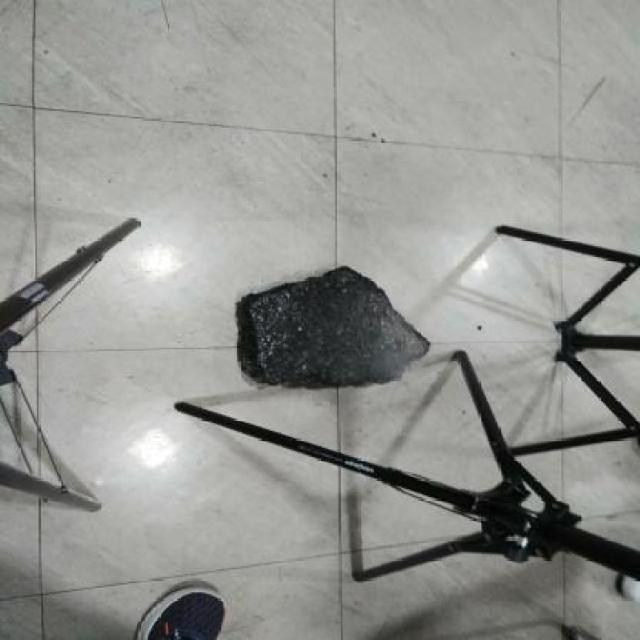Road Debris: (242, 266, 356, 394)
